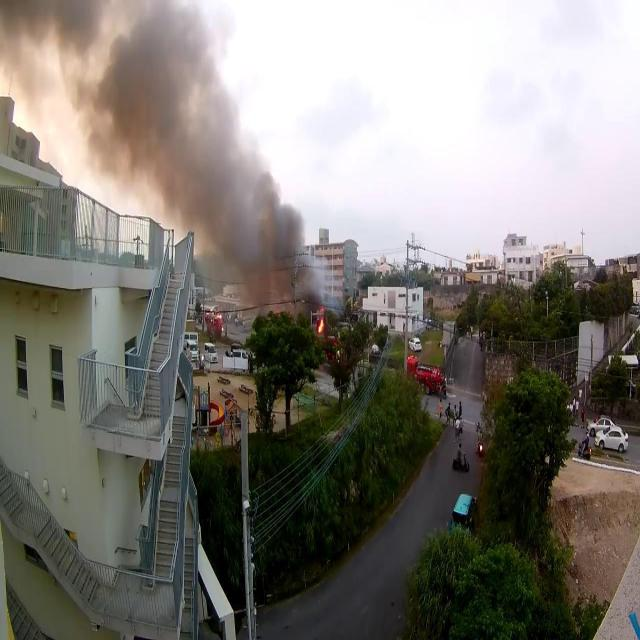Fire: (317, 319, 325, 332)
